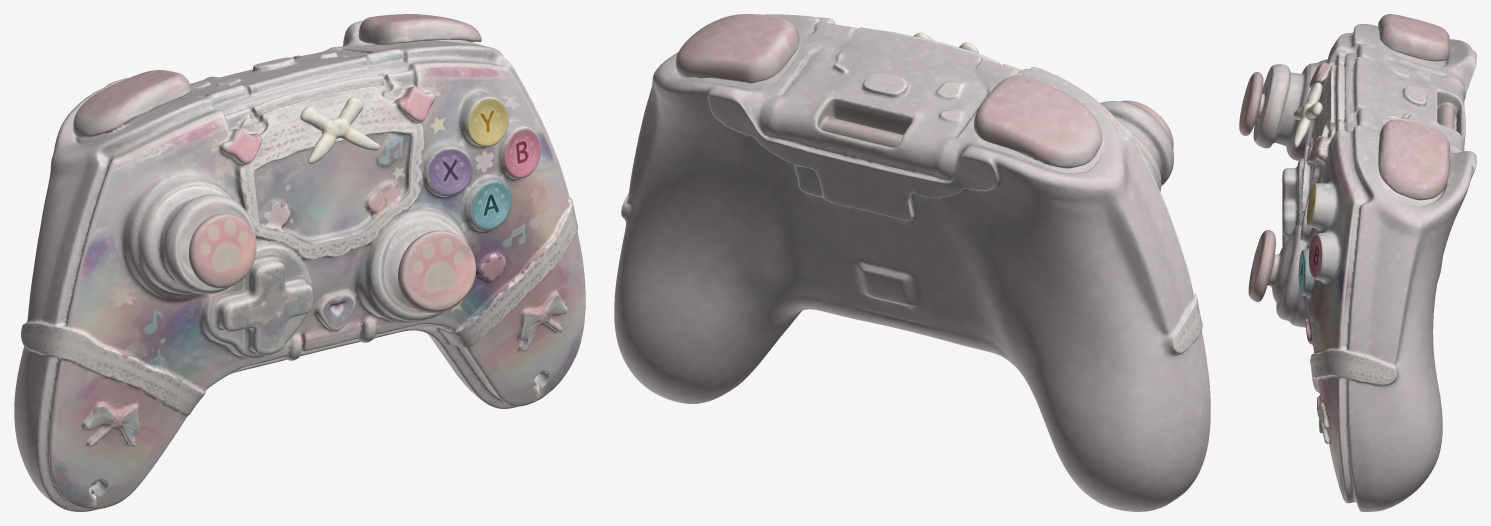
File: gamer-small.glb
The picture shows the model from 3 angles, left to right: view 1: azimuth 30°, elevation 25°; view 2: azimuth 150°, elevation 25°; view 3: azimuth 270°, elevation 25°; orthographic projection. The views are drawn at different scales.
Size of the model in its own units: 1.9 by 1.31 by 0.8197.
Materials: 1 (1 with a texture image).
